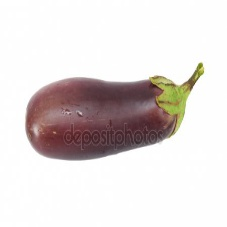eggplant: (24, 75, 184, 161)
